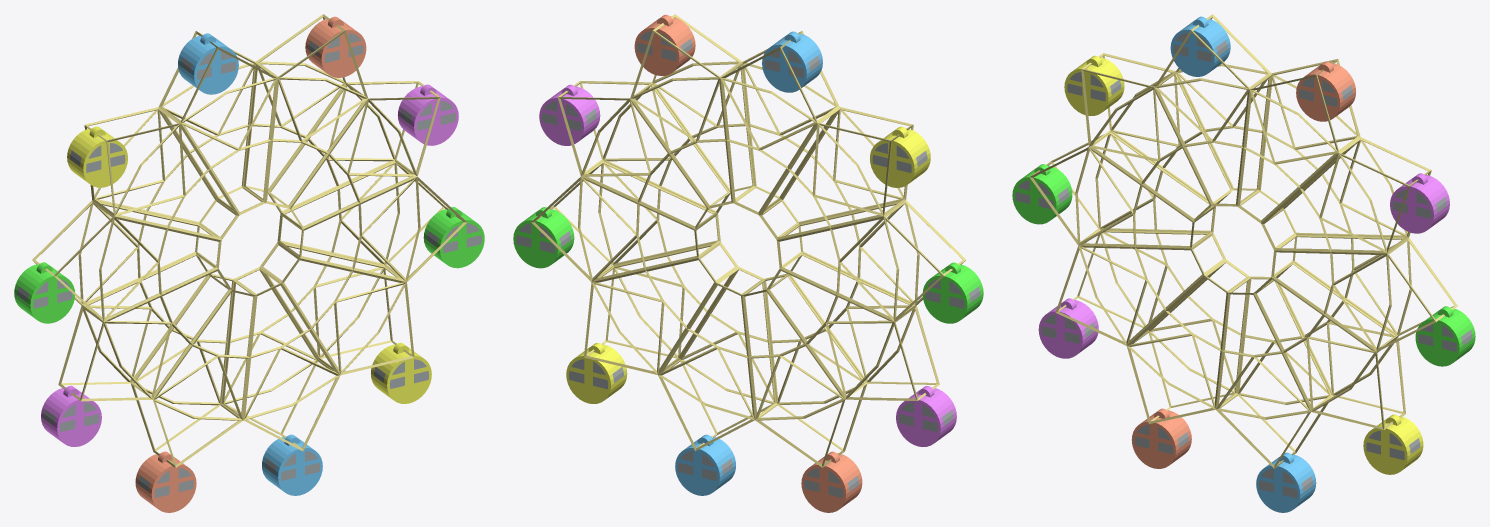
The model's file is kanransya2.fbx.
3 renders of one model, left to right at view 1: azimuth 30°, elevation 25°; view 2: azimuth 150°, elevation 25°; view 3: azimuth 330°, elevation 25°, orthographic.
Visible parts, largest first — view 1: 立方体, 円柱.003, 円柱.005, 円柱.002, 円柱.007, 円柱.006, 円柱.001, 円柱.008, 円柱.004, 円柱.010, 円柱.009; view 2: 立方体, 円柱.003, 円柱.005, 円柱.002, 円柱.007, 円柱.006, 円柱.001, 円柱.008, 円柱.004, 円柱.010, 円柱.009; view 3: 立方体, 円柱.001, 円柱.002, 円柱.004, 円柱.010, 円柱.003, 円柱.009, 円柱.005, 円柱.008, 円柱.007, 円柱.006.
Part boxes in pixels (<box>): 立方体: <box>32,14,467,467</box>; 円柱.003: <box>135,451,196,512</box>; 円柱.005: <box>41,385,101,446</box>; 円柱.002: <box>262,434,322,495</box>; 円柱.007: <box>14,262,74,323</box>; 円柱.006: <box>67,126,127,187</box>; 円柱.001: <box>371,342,431,403</box>; 円柱.008: <box>178,33,238,94</box>; 円柱.004: <box>423,207,484,268</box>; 円柱.010: <box>397,84,458,145</box>; 円柱.009: <box>305,16,366,77</box>; 立方体: <box>531,14,965,467</box>; 円柱.003: <box>801,451,862,512</box>; 円柱.005: <box>896,386,956,446</box>; 円柱.002: <box>675,434,735,495</box>; 円柱.007: <box>922,262,983,323</box>; 円柱.006: <box>870,126,930,187</box>; 円柱.001: <box>566,343,627,403</box>; 円柱.008: <box>762,31,822,92</box>; 円柱.004: <box>513,207,574,268</box>; 円柱.010: <box>539,84,600,145</box>; 円柱.009: <box>634,14,695,75</box>; 立方体: <box>1029,14,1457,468</box>; 円柱.001: <box>1363,414,1423,474</box>; 円柱.002: <box>1256,452,1316,512</box>; 円柱.004: <box>1415,306,1475,366</box>; 円柱.010: <box>1390,173,1449,233</box>; 円柱.003: <box>1131,408,1191,468</box>; 円柱.009: <box>1296,61,1356,121</box>; 円柱.005: <box>1038,298,1098,358</box>; 円柱.008: <box>1170,16,1230,76</box>; 円柱.007: <box>1012,164,1072,224</box>; 円柱.006: <box>1064,55,1124,115</box>.
Size of the model in its own units: 5269 by 5277 by 449.
